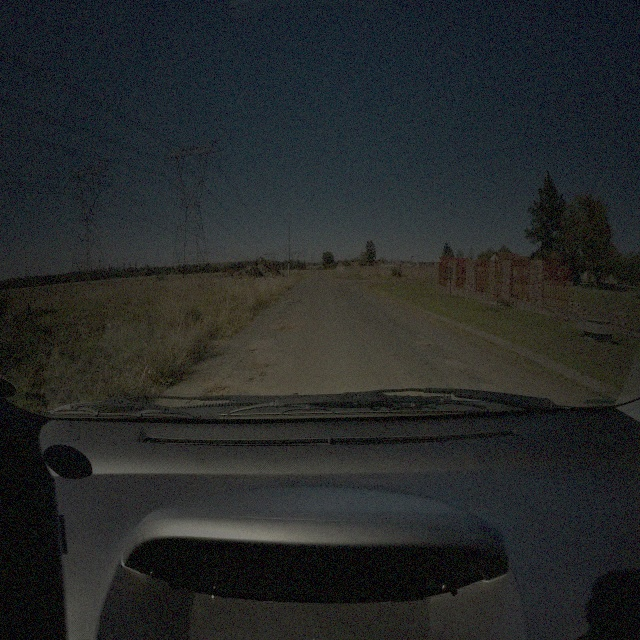pothole: (202, 384, 230, 399), (280, 323, 300, 334), (250, 360, 274, 368), (425, 338, 435, 349), (246, 346, 257, 354)
